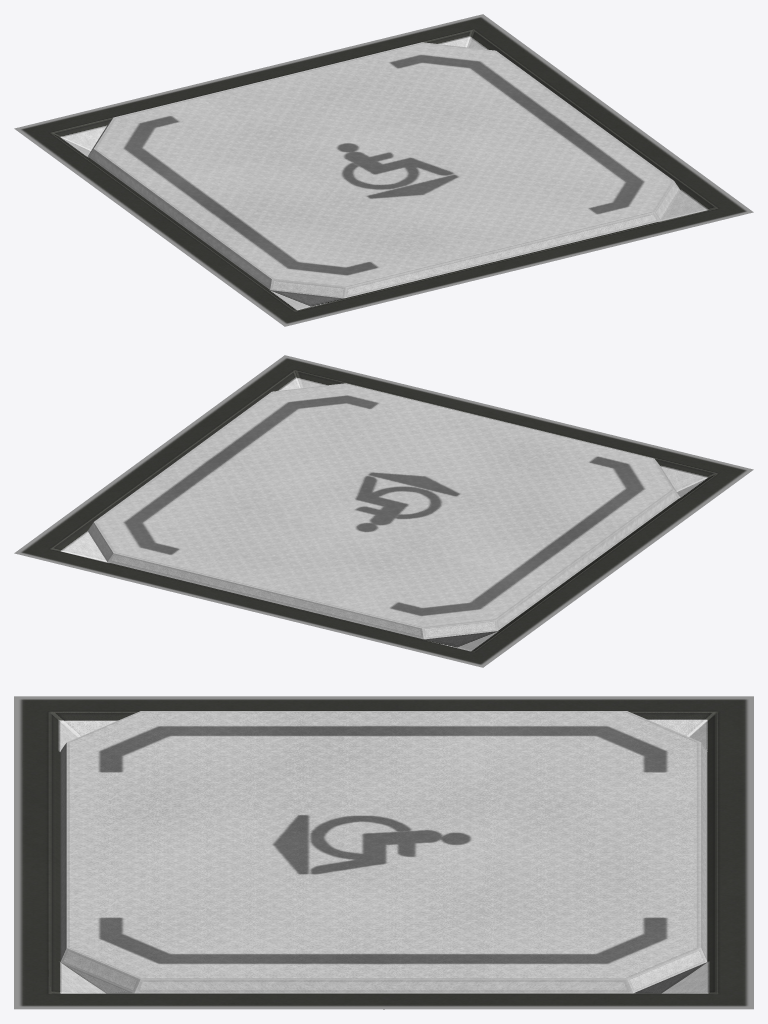
The model's file is Elevator.FBX.
3 views of the same model, one above another, from view 1: azimuth 30°, elevation 25°; view 2: azimuth 150°, elevation 25°; view 3: azimuth 270°, elevation 25° (orthographic). The views are drawn at different scales.
Visible parts, largest first — view 1: elevator_move, elevator; view 2: elevator_move, elevator; view 3: elevator_move, elevator.
Boxes of the visible parts, x1=… form: elevator_move: x1=87, y1=42, x2=679, y2=305; elevator: x1=14, y1=14, x2=753, y2=326; elevator_move: x1=88, y1=383, x2=680, y2=646; elevator: x1=14, y1=355, x2=753, y2=667; elevator_move: x1=60, y1=711, x2=707, y2=993; elevator: x1=14, y1=696, x2=753, y2=1009.
Bounding box in the file's own units: 50 × 12.25 × 50.
Materials: 2 (2 with a texture image).
